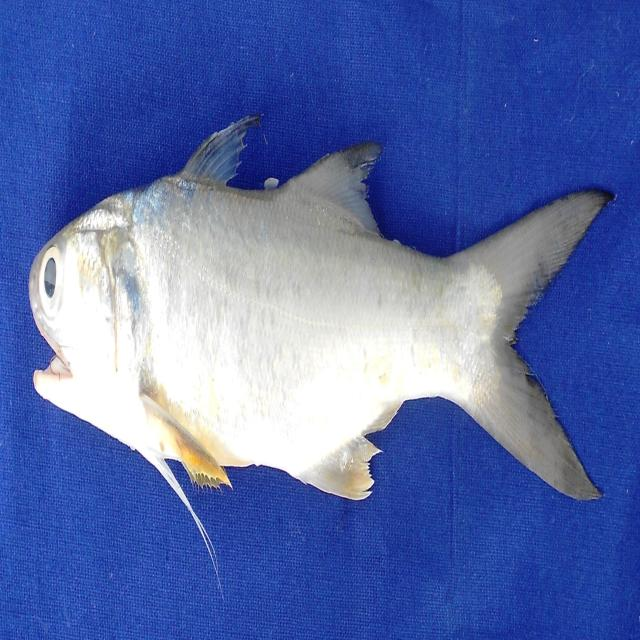Fourfinger-Threadfin: (6, 69, 620, 584)
